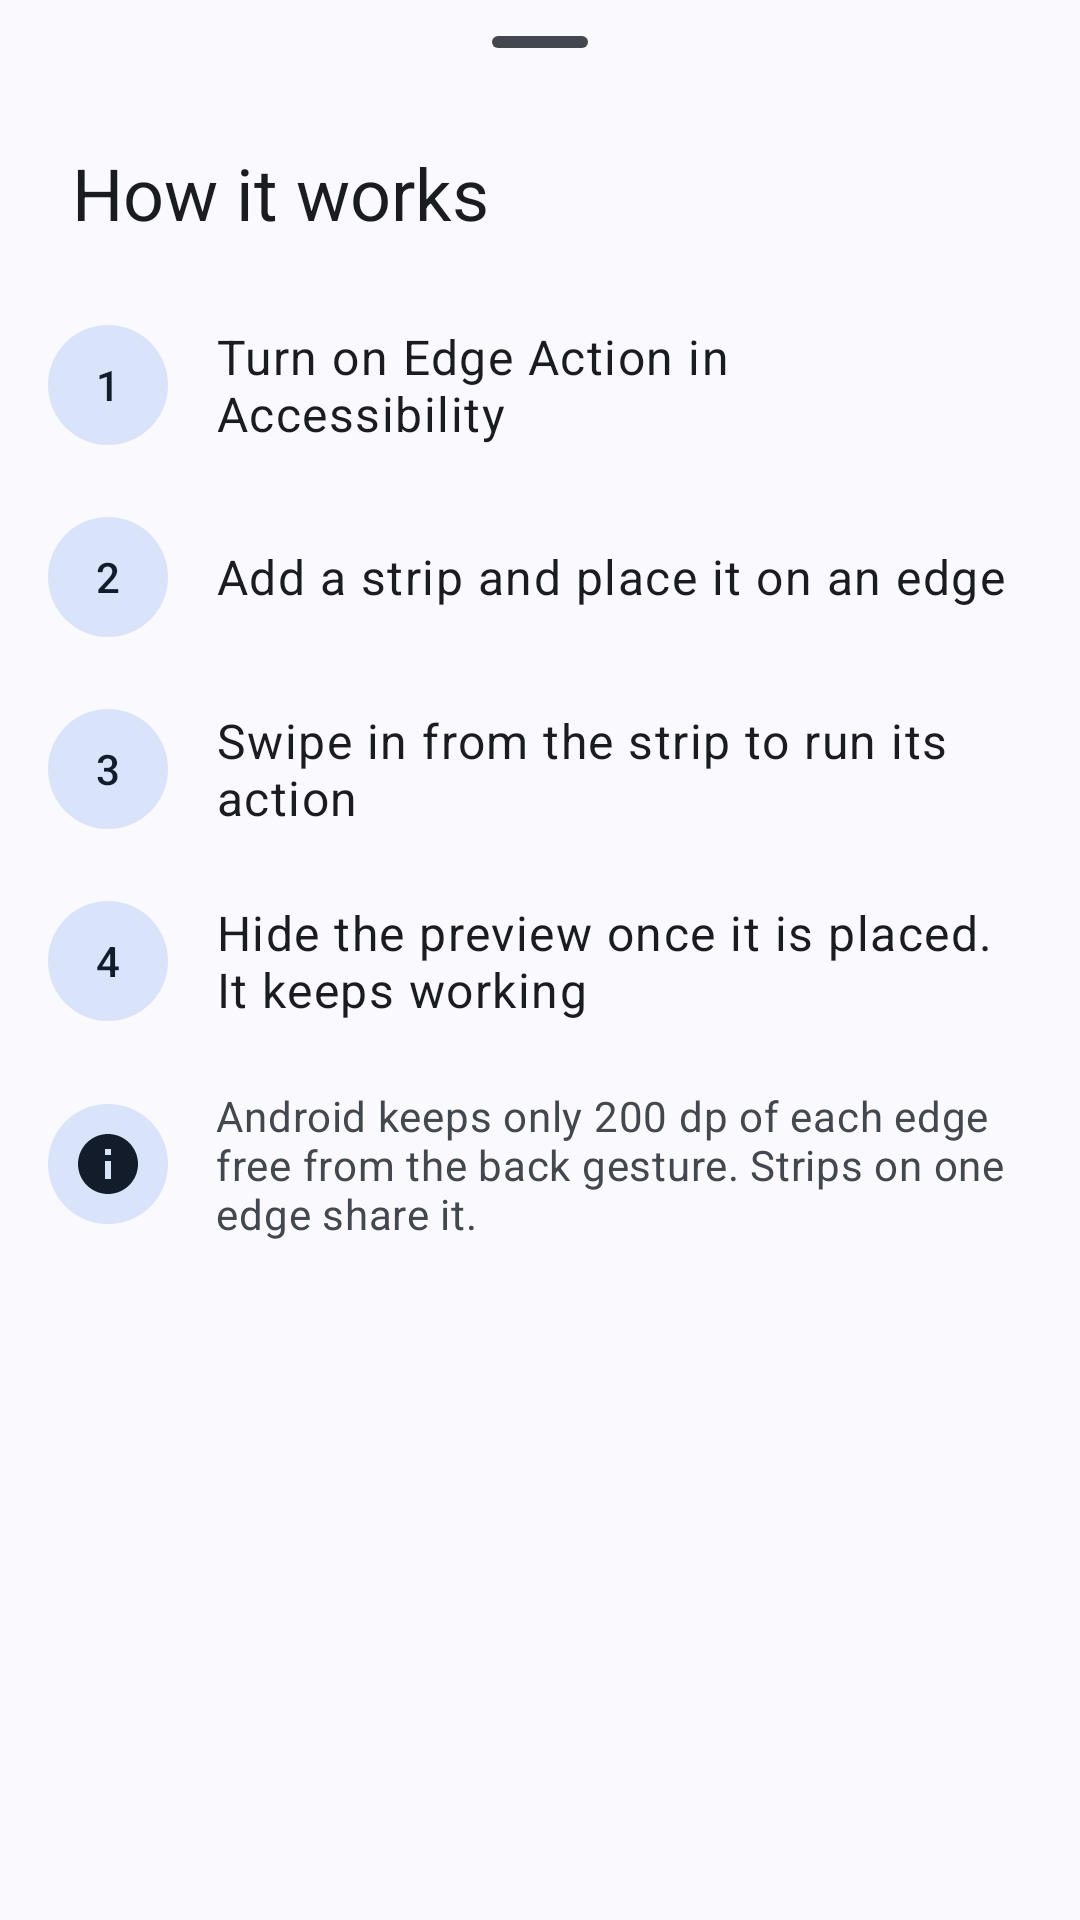

Named icons in this screenshot (1080 x 1920) and their centers, (x=x, y=y):
info: (x=108, y=1164)
